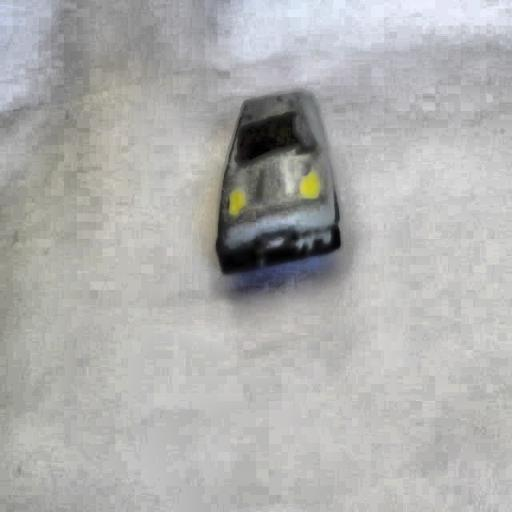normal_car: (212, 86, 344, 277)
